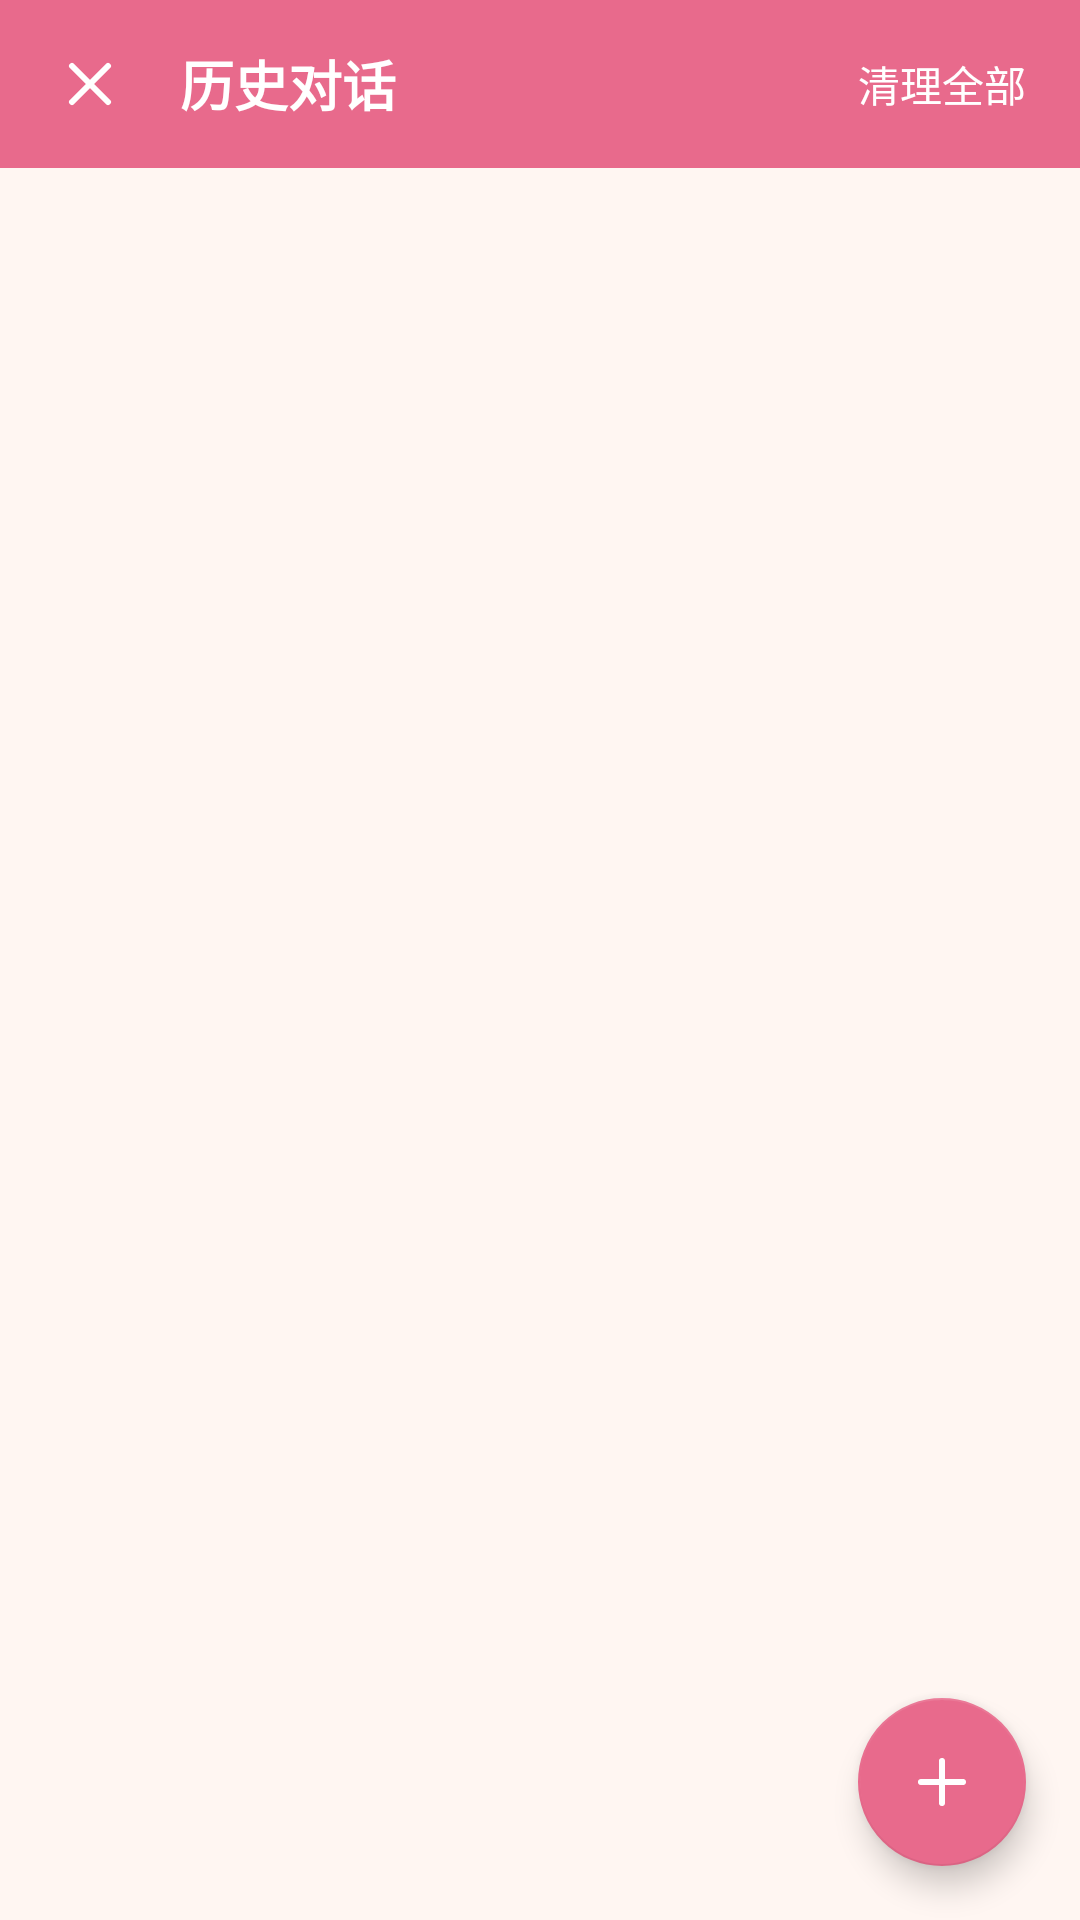

Icon click points for this 1080×1920 phone screenshot, format [x,y]:
新对话: [942,1782]
返回: [90,84]
